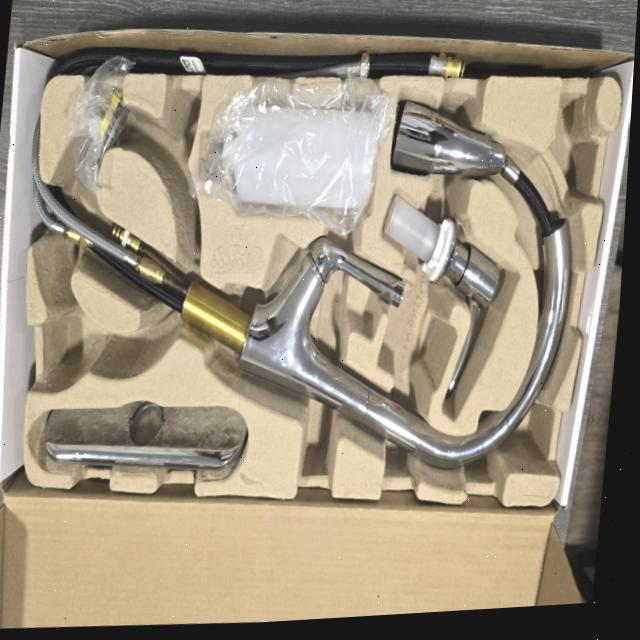1: (32, 101, 570, 468)
2: (381, 193, 501, 393)
3: (205, 106, 377, 207)
4: (42, 401, 245, 470)
5m: (50, 314, 98, 384)
6: (53, 56, 134, 194)
7m: (137, 92, 198, 230)
